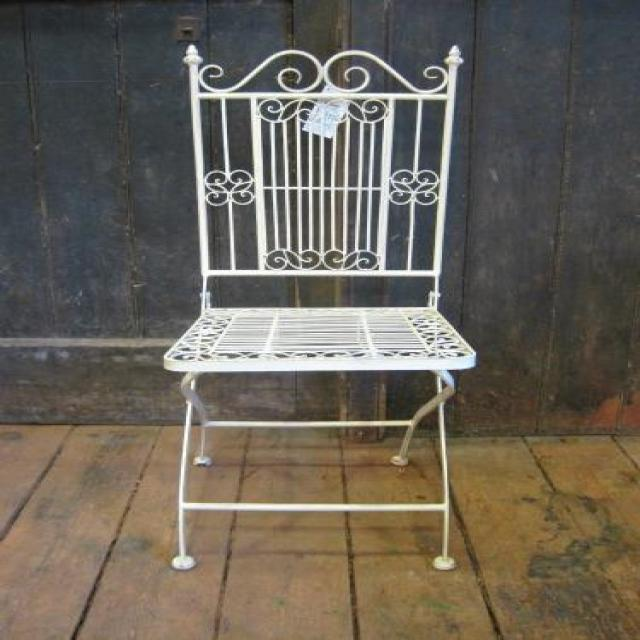chair: (164, 40, 478, 572)
